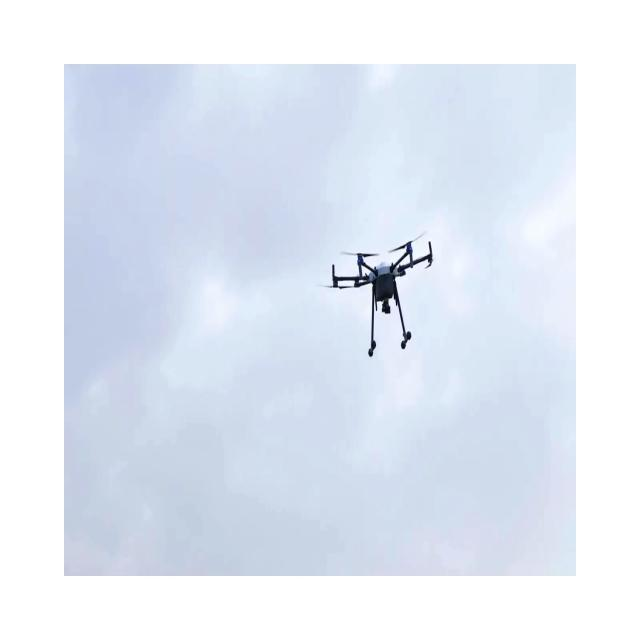drone: (318, 229, 433, 357)
